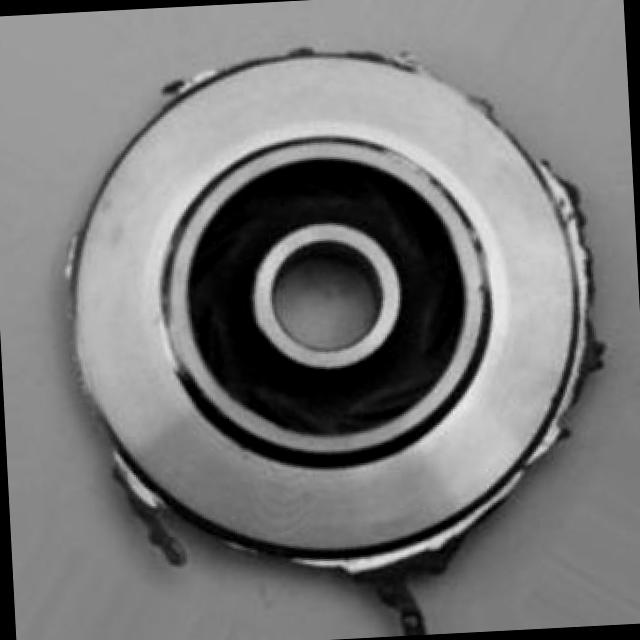Defect: (101, 444, 190, 575)
